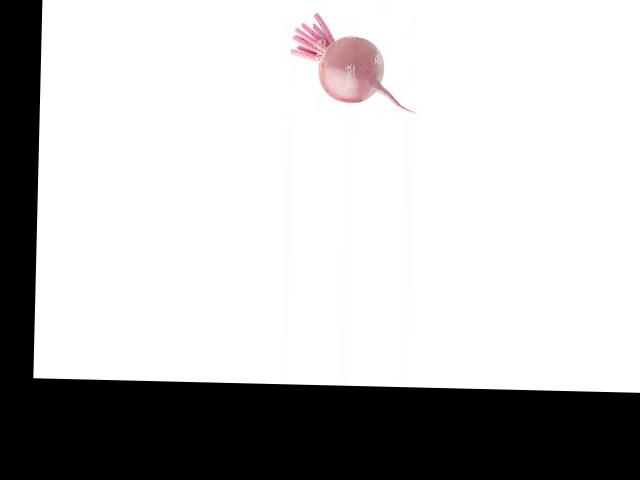beet: (289, 11, 416, 113)
